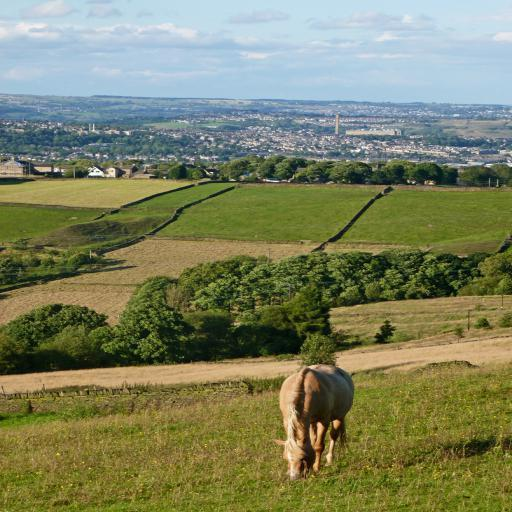horse: (274, 365, 358, 485)
